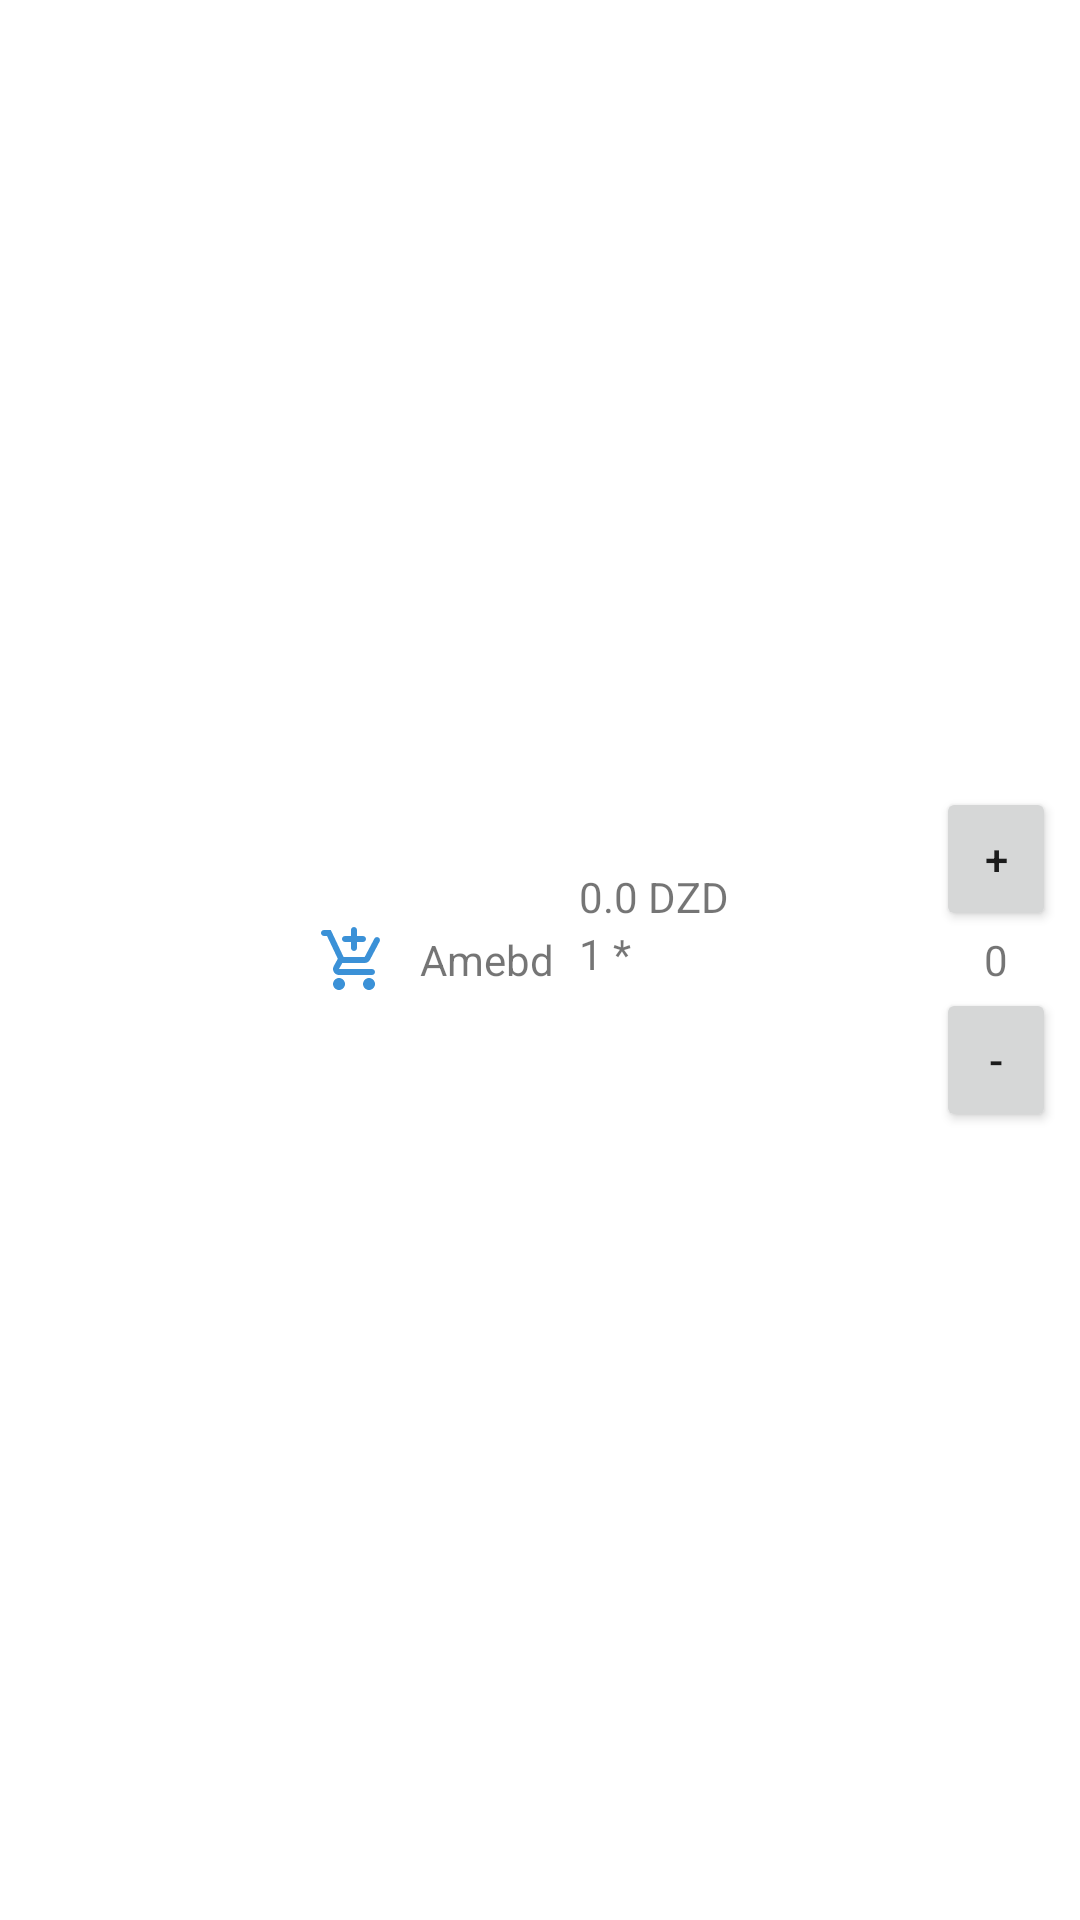

Point at icon controls on the screen. Image size 1080w x 1920h, points as point (x, y).
shopping cart: point (350, 958)
